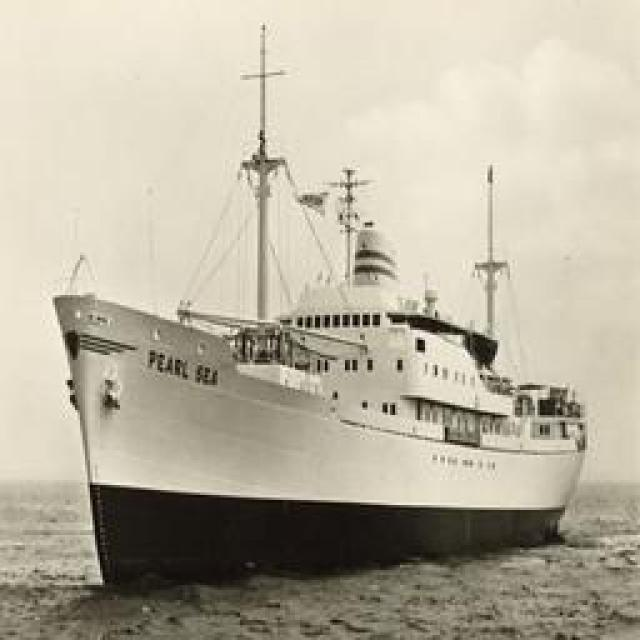Ship: (50, 37, 588, 567)
